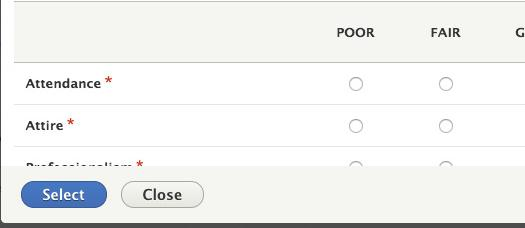button: (16, 178, 107, 210), (122, 180, 205, 209)
radio: (436, 73, 457, 91), (348, 116, 364, 137), (437, 115, 453, 135), (346, 75, 363, 92)
